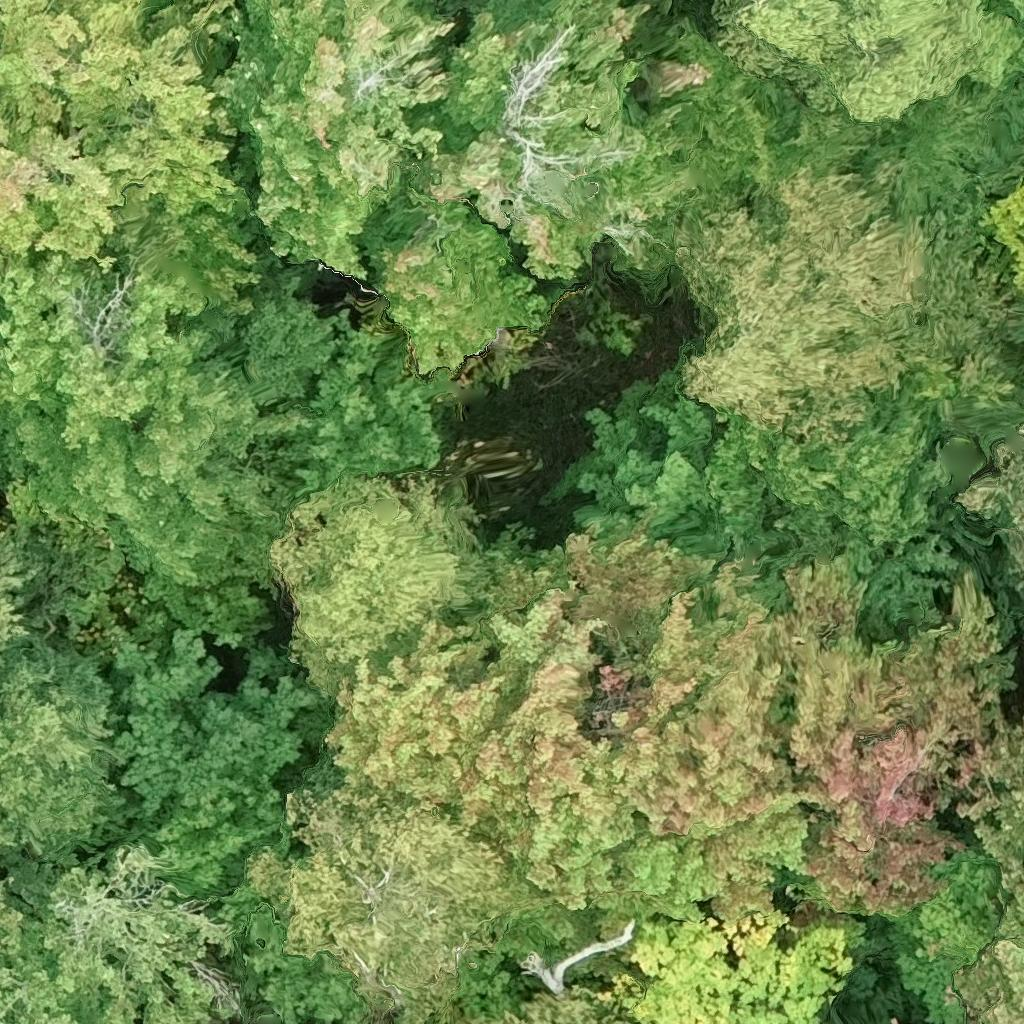crown: (0, 257, 269, 594), (0, 850, 231, 1023), (0, 566, 135, 851), (100, 626, 305, 808), (550, 911, 861, 1023), (466, 997, 605, 1023)
